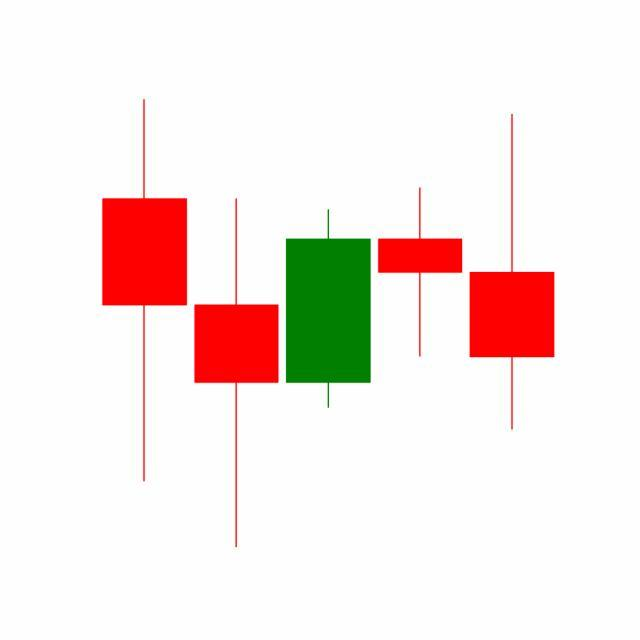Hammer: (374, 185, 468, 359)
